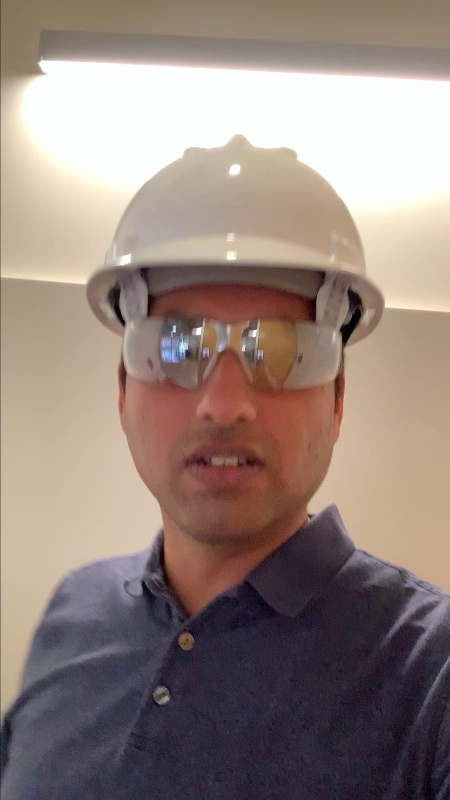glasses: (119, 310, 350, 397)
helmet: (69, 133, 384, 327)
